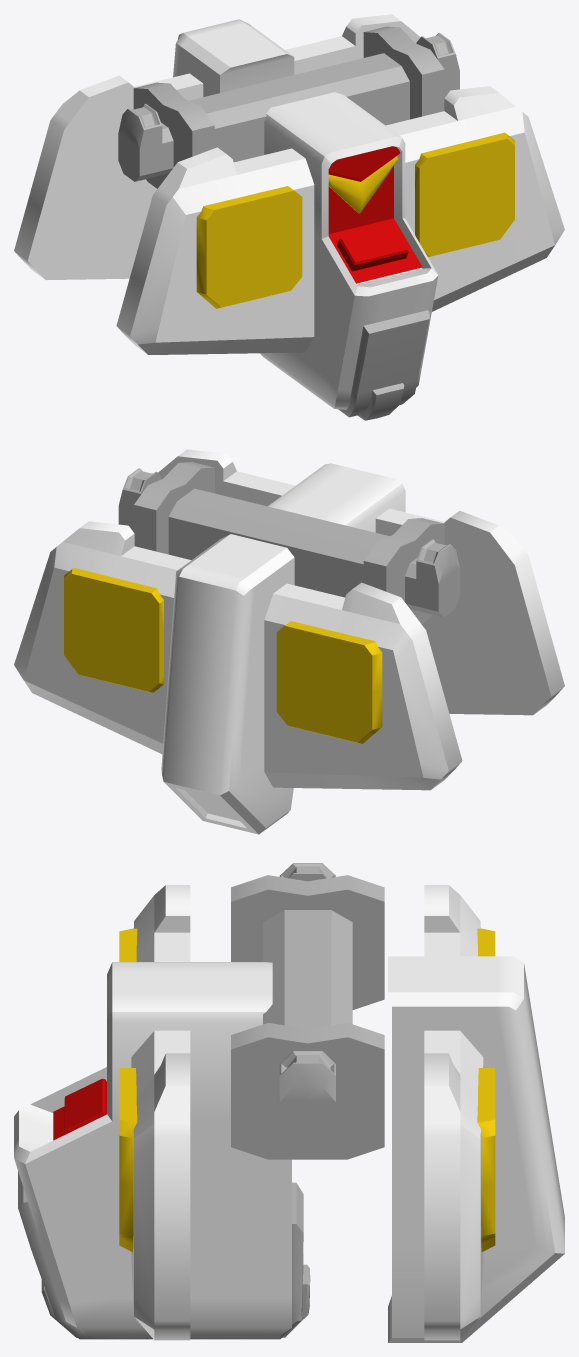
Rendered from dbody.fbx.
The picture shows the model from 3 angles, top to bottom: view 1: azimuth 30°, elevation 25°; view 2: azimuth 150°, elevation 25°; view 3: azimuth 270°, elevation 25°; orthographic projection. The views are drawn at different scales.
Parts seen in each view (by area): view 1: dbody; view 2: dbody; view 3: dbody.
Part boxes in pixels (left/top/right/bottom): dbody: left=14, top=14, right=564, bottom=420; dbody: left=14, top=449, right=564, bottom=834; dbody: left=14, top=863, right=564, bottom=1342.
Bounding box in the file's own units: 738 × 462 × 615.
